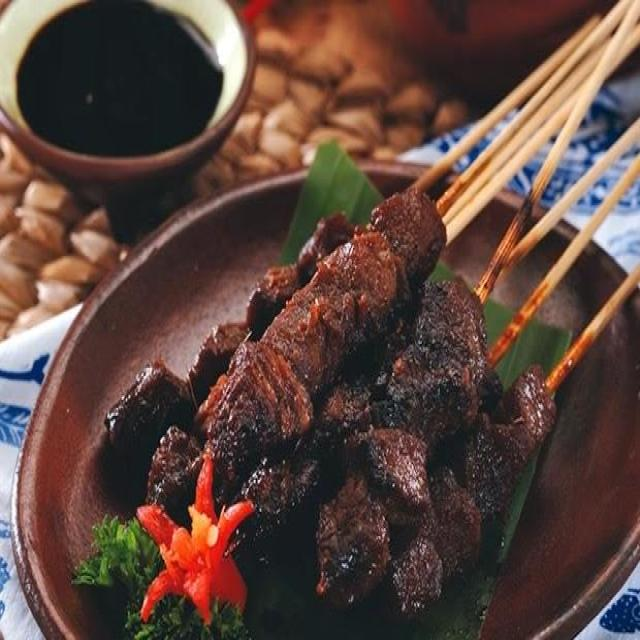Sate: (165, 56, 620, 592)
